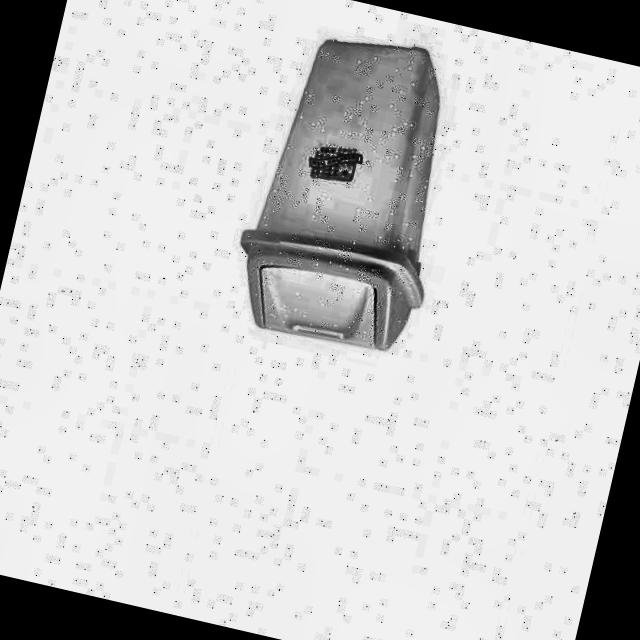Dustbin: (183, 7, 492, 384)
